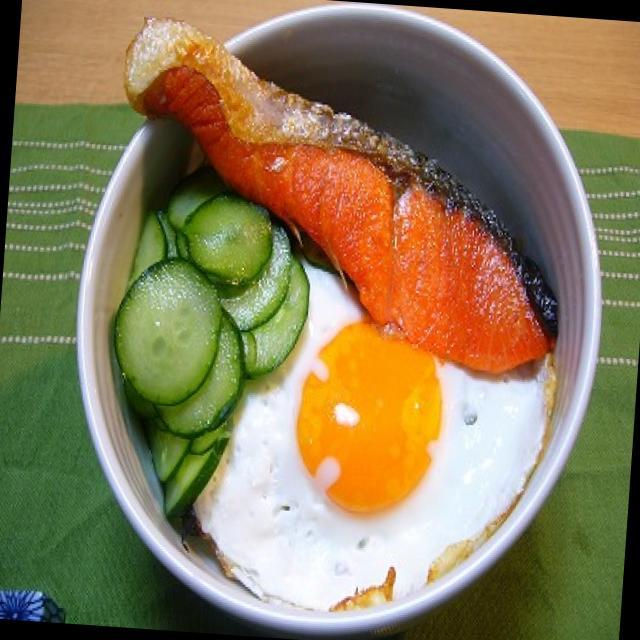Cucumber: (97, 166, 319, 471)
Egg: (238, 280, 562, 630)
